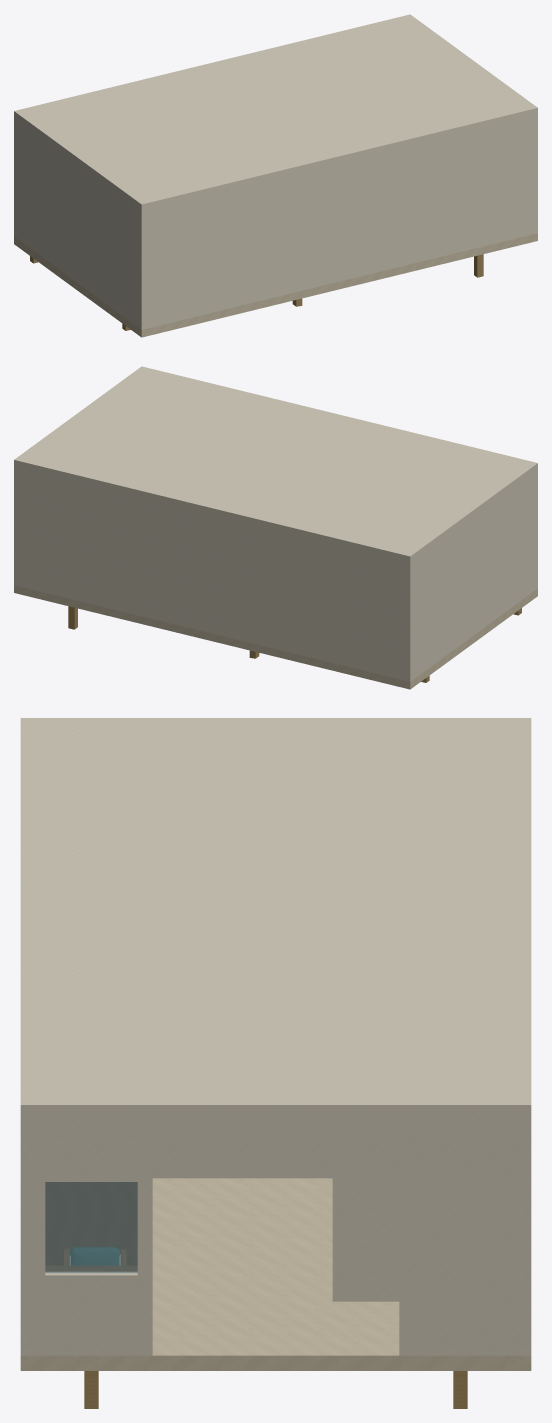
Rendered from StarAtlasSpecialty_407.glb.
3 renders of one model, top to bottom at view 1: azimuth 30°, elevation 25°; view 2: azimuth 150°, elevation 25°; view 3: azimuth 270°, elevation 25°, orthographic. The views are drawn at different scales.
Visible parts, largest first — view 1: SA407_Ceiling, SA407_NorthSide, SA407_OpaqueRearBoundary, SA407_RoomFloor; view 2: SA407_Ceiling, SA407_SouthSide, SA407_OpaqueRearBoundary, SA407_RoomFloor; view 3: SA407_Ceiling, SA407_RoomFloor, SA407_EntryShoulderSouth, SA407_EntryHeader, SA407_StreetWindowLower, SA407_ScreenedStreetGlass, SA407_WashEntrySide, SA407_StreetWindowUpper, SA407_EntryPrivacyDogleg, SA407_NorthSide, SA407_SouthSide, SA407_StreetWindowOuterPier (+2 smaller).
Part boxes in pixels (left/top/right/bottom): SA407_Ceiling: left=14, top=14, right=537, bottom=209; SA407_NorthSide: left=139, top=113, right=537, bottom=329; SA407_OpaqueRearBoundary: left=16, top=118, right=139, bottom=327; SA407_RoomFloor: left=14, top=233, right=537, bottom=337; SA407_Ceiling: left=14, top=366, right=537, bottom=561; SA407_SouthSide: left=14, top=465, right=412, bottom=681; SA407_OpaqueRearBoundary: left=412, top=470, right=535, bottom=679; SA407_RoomFloor: left=14, top=585, right=537, bottom=689; SA407_Ceiling: left=20, top=718, right=531, bottom=1115; SA407_RoomFloor: left=20, top=1178, right=531, bottom=1370; SA407_EntryShoulderSouth: left=399, top=1115, right=522, bottom=1355; SA407_EntryHeader: left=148, top=1115, right=403, bottom=1178; SA407_StreetWindowLower: left=29, top=1272, right=152, bottom=1355; SA407_ScreenedStreetGlass: left=45, top=1182, right=137, bottom=1272; SA407_WashEntrySide: left=332, top=1178, right=399, bottom=1301; SA407_StreetWindowUpper: left=29, top=1115, right=152, bottom=1181; SA407_EntryPrivacyDogleg: left=45, top=1182, right=137, bottom=1265; SA407_NorthSide: left=20, top=1115, right=28, bottom=1355; SA407_SouthSide: left=523, top=1115, right=531, bottom=1355; SA407_StreetWindowOuterPier: left=29, top=1182, right=45, bottom=1275.
Size of the model in its own units: 12.9 by 5.31 by 7.2.
Materials: 64 (49 with a texture image).
